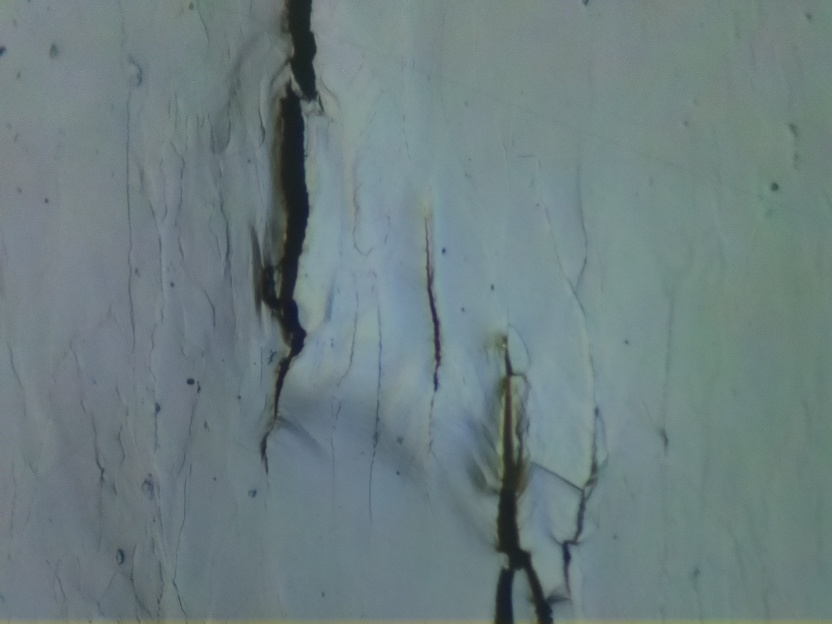crack: (253, 0, 318, 475), (490, 339, 554, 624), (561, 421, 603, 587), (412, 219, 447, 393)
